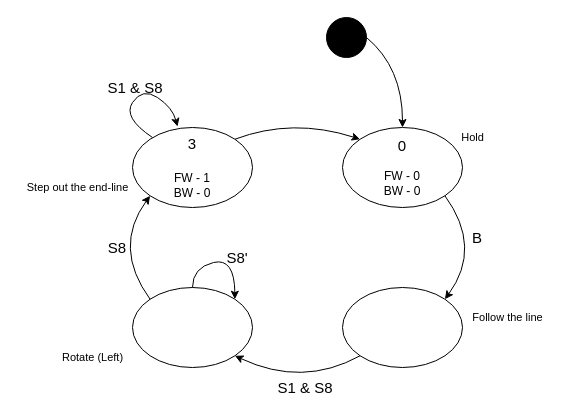
The diagram is 569 pixels wide and 415 high, and some of its shapes have lost their labels. The shapes that lost their labels are listed below. From the top down, each one's centre as x and y in pixels, then its label:
At (x=192, y=327): "2 FWR - 1 BWL - 1".
At (x=402, y=327): "1 FW - 1 BW - 0".
